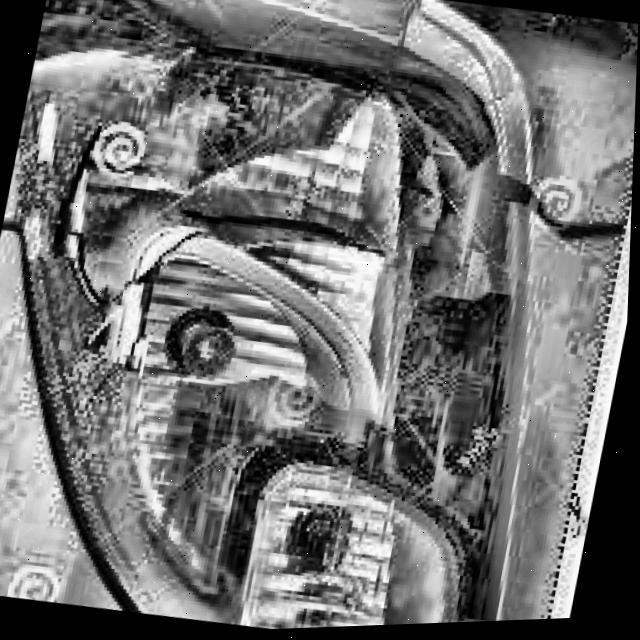tail_lamp: (38, 97, 444, 431)
